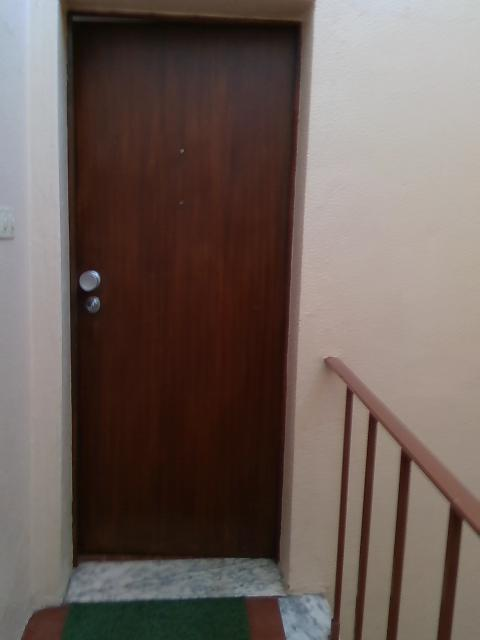door: (73, 16, 298, 560)
